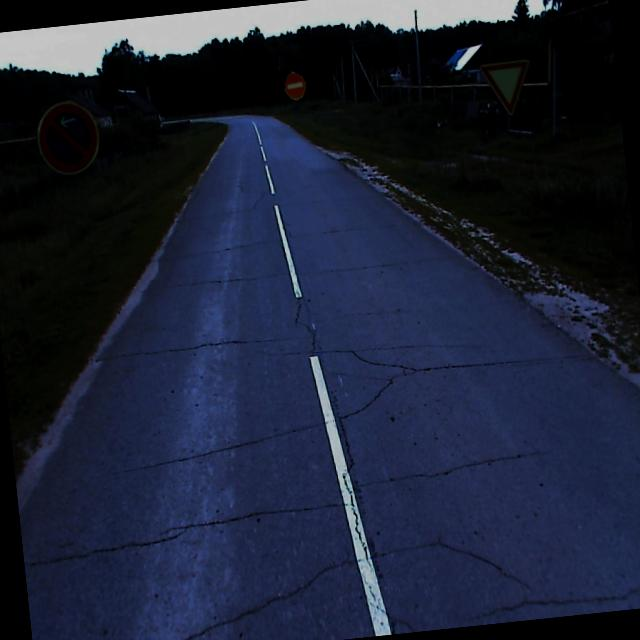road: (18, 114, 640, 640)
